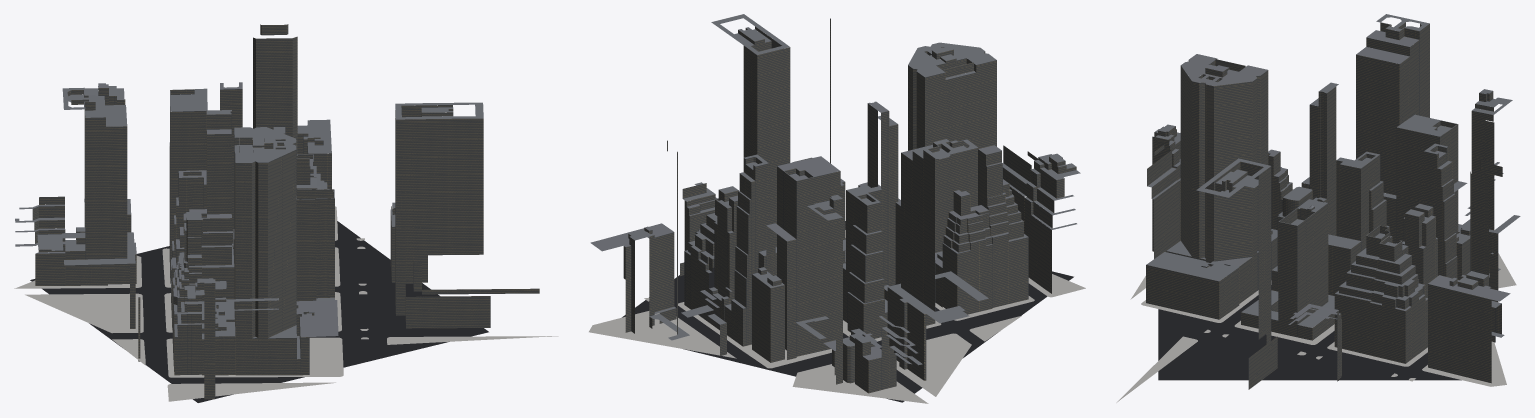
The picture shows the model from 3 angles, left to right: view 1: azimuth 30°, elevation 25°; view 2: azimuth 150°, elevation 25°; view 3: azimuth 270°, elevation 25°; orthographic projection. The views are drawn at different scales.
Parts seen in each view (by area): view 1: t7_4, detail; view 2: t7_4, detail; view 3: t7_4, detail.
Part boxes in pixels (x1,y1,x2,y2): t7_4: (15, 24, 539, 402); detail: (14, 206, 558, 401); t7_4: (590, 14, 1080, 402); detail: (589, 230, 1085, 403); t7_4: (1146, 14, 1520, 389); detail: (1116, 253, 1516, 402).
Size of the model in its own units: 316 by 182 by 302.
Materials: 4 (2 with a texture image).
